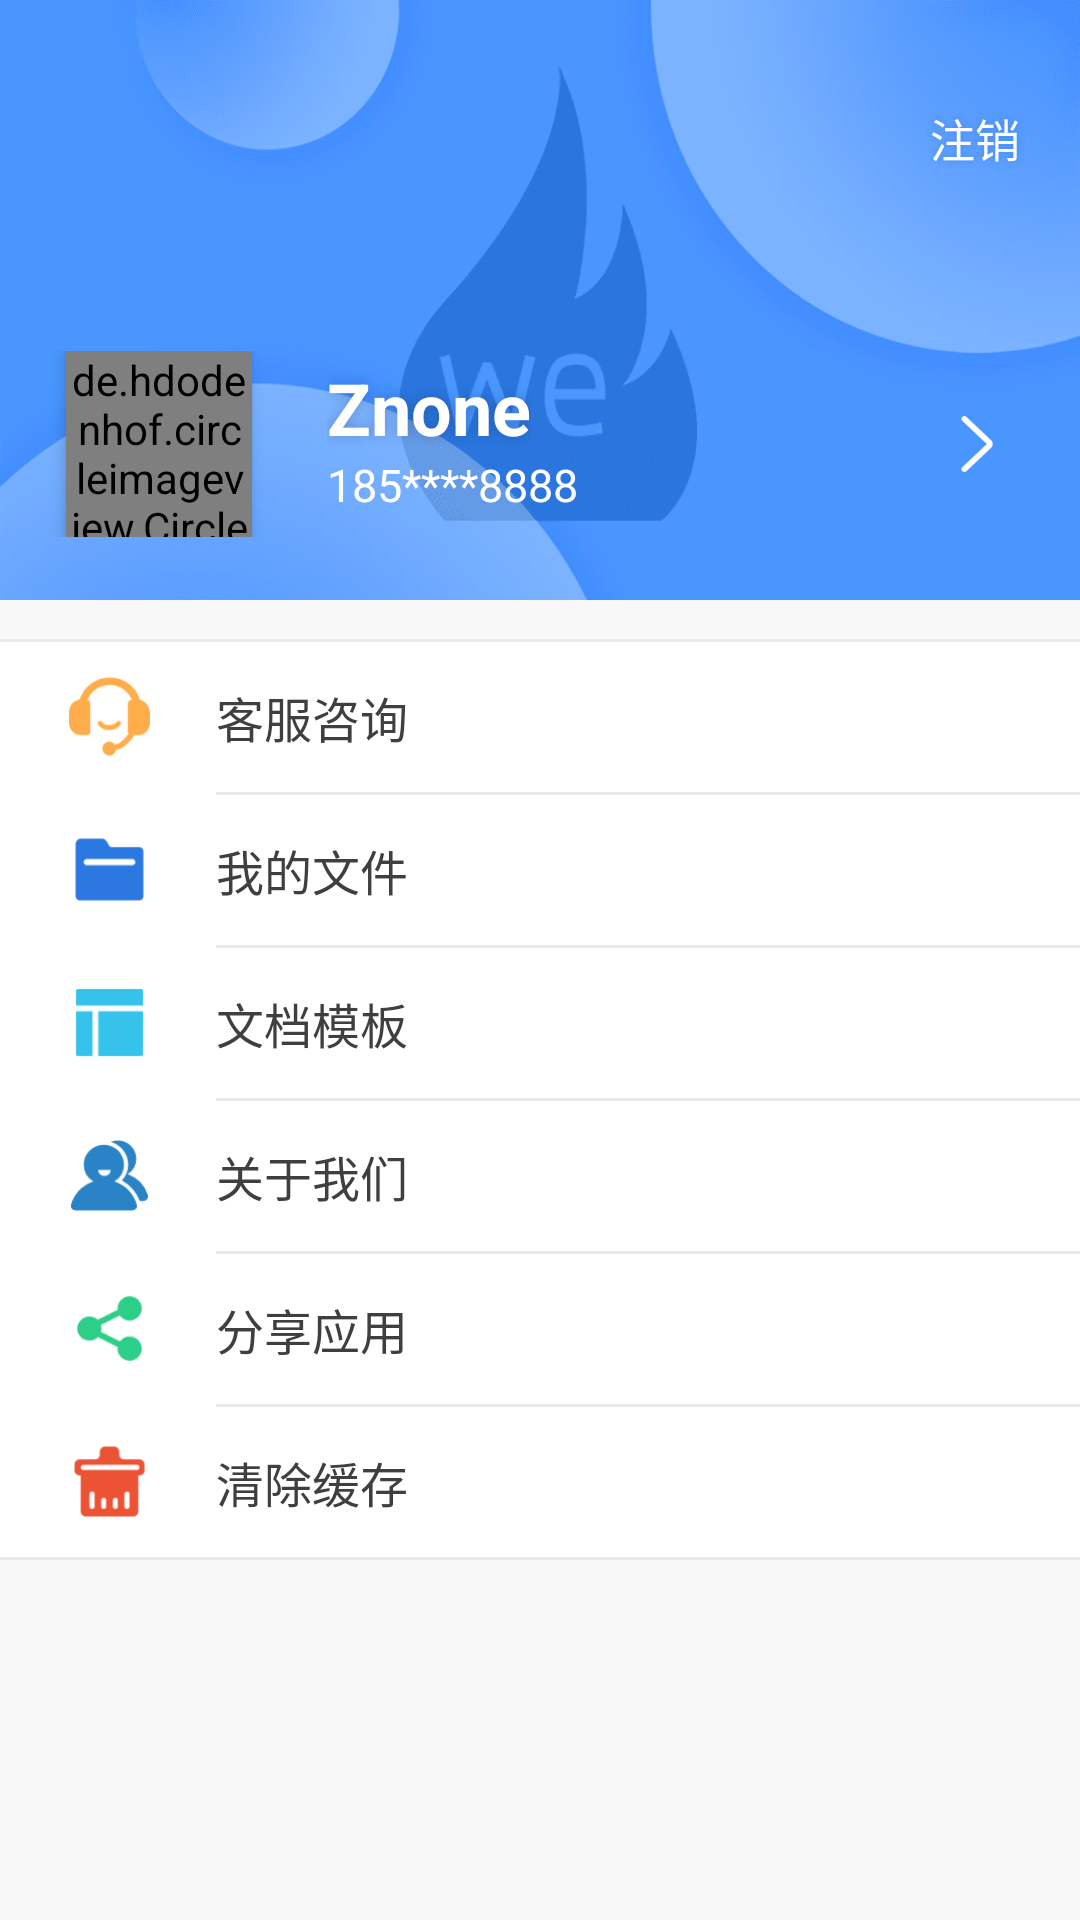

Icon click points for this 1080px x 1920px phone screenshot, format (x=x, y=y):
fenxiang: (x=109, y=1328)
guanyuwomen: (x=109, y=1175)
kefu: (x=109, y=716)
moban: (x=109, y=1022)
qingchu: (x=109, y=1481)
wenjian: (x=109, y=869)
